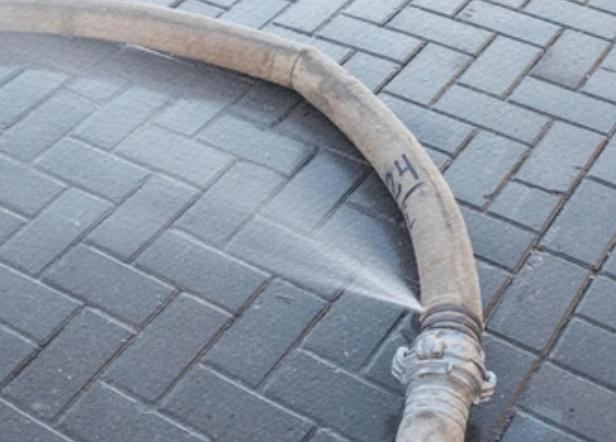pipe burst: (237, 206, 428, 315)
